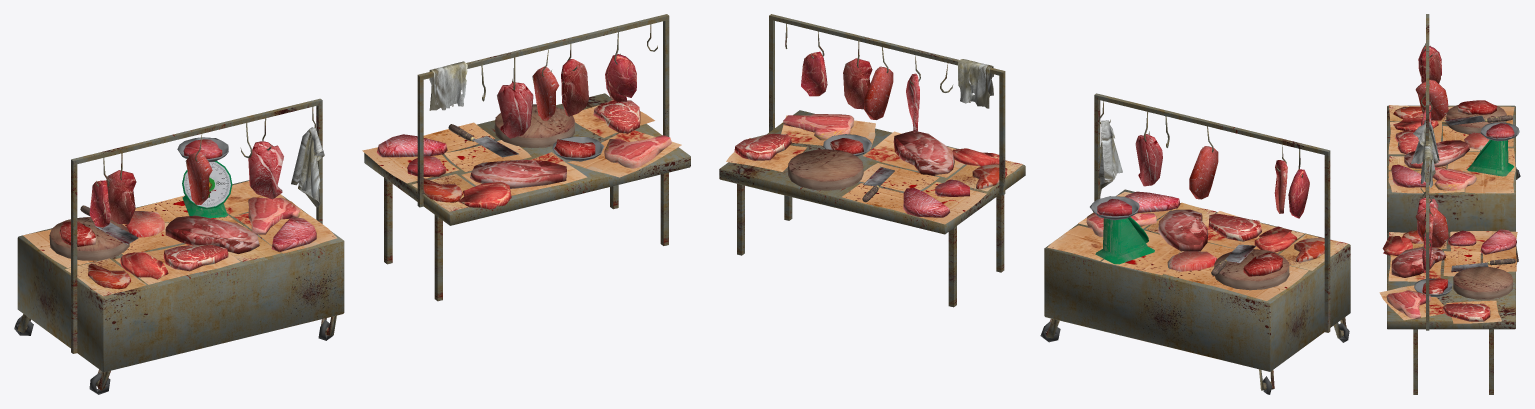
Rendered from meat.fbx.
3 renders of one model, left to right at view 1: azimuth 30°, elevation 25°; view 2: azimuth 150°, elevation 25°; view 3: azimuth 270°, elevation 25°, orthographic. The views are drawn at different scales.
Visible parts, largest first — view 1: Cube.001, Cube.003; view 2: Cube.001, Cube.003; view 3: Cube.001, Cube.003.
Boxes of the visible parts, x1,y1,x2,y2 form: Cube.001: [14, 98, 344, 394]; Cube.003: [362, 14, 690, 301]; Cube.001: [1040, 93, 1350, 394]; Cube.003: [719, 14, 1025, 307]; Cube.001: [1387, 14, 1520, 264]; Cube.003: [1379, 141, 1517, 394].
Size of the model in its own units: 1306 by 464 by 354.
1 material, 1 textured.
